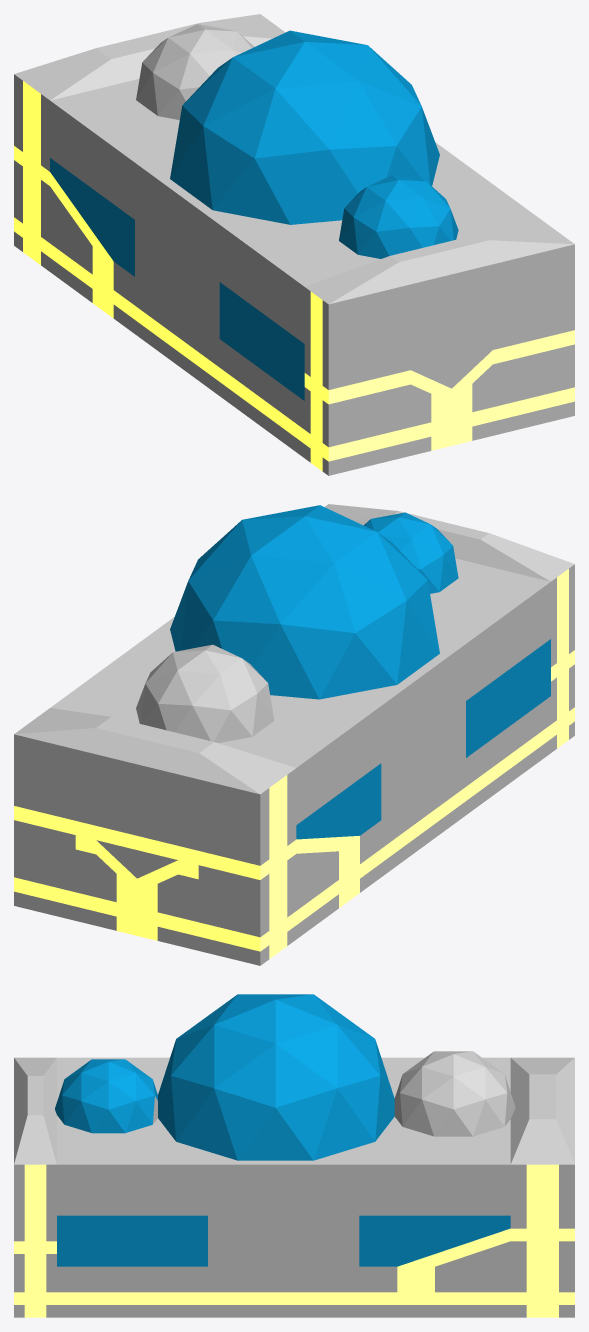
Rendered from SD_House3.fbx.
3 views of the same model, one above another, from view 1: azimuth 30°, elevation 25°; view 2: azimuth 150°, elevation 25°; view 3: azimuth 270°, elevation 25° (orthographic). The views are drawn at different scales.
Parts seen in each view (by area): view 1: Cube; view 2: Cube; view 3: Cube.
Boxes of the visible parts, left/top/right/bottom form: Cube: left=14, top=14, right=574, bottom=475; Cube: left=14, top=504, right=574, bottom=965; Cube: left=14, top=994, right=574, bottom=1317.
Size of the model in its own units: 1182 by 1360 by 2614.
